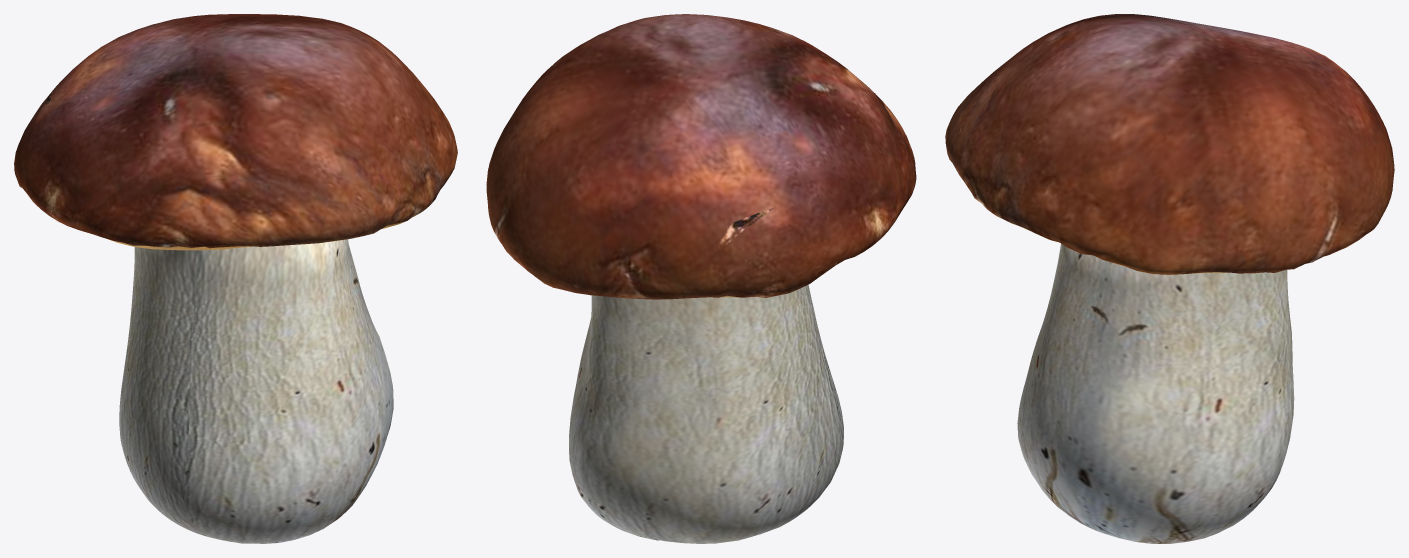
The model's file is SENE_48.fbx.
The picture shows the model from 3 angles, left to right: view 1: azimuth 30°, elevation 25°; view 2: azimuth 150°, elevation 25°; view 3: azimuth 270°, elevation 25°; orthographic projection.
Parts seen in each view (by area): view 1: SENE_48; view 2: SENE_48; view 3: SENE_48.
Part boxes in pixels (bbox=[...]): SENE_48: bbox=[14, 14, 457, 543]; SENE_48: bbox=[486, 14, 916, 543]; SENE_48: bbox=[945, 14, 1394, 543].
Size of the model in its own units: 82.1 by 101 by 84.42.
1 material, 1 textured.
